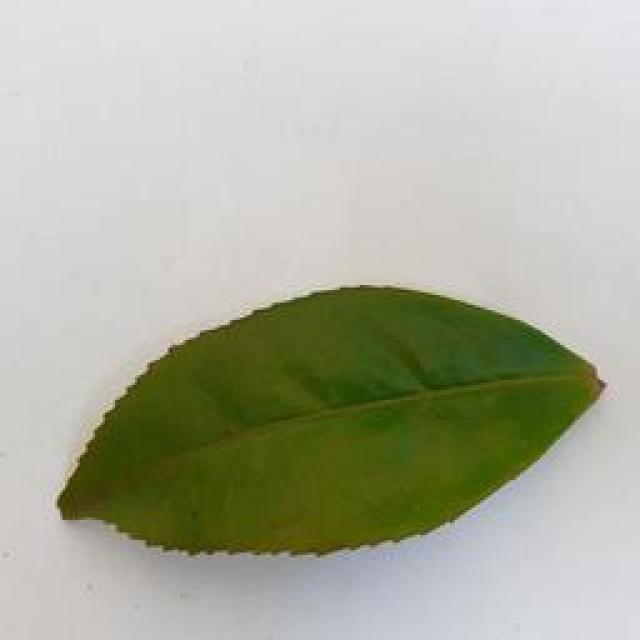Healthy: (62, 279, 614, 562)
